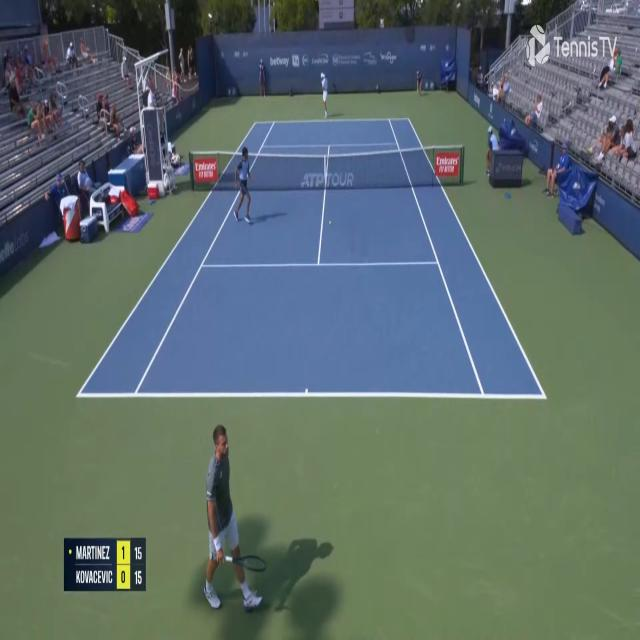tennis-player: (199, 418, 267, 619), (320, 70, 336, 121)
